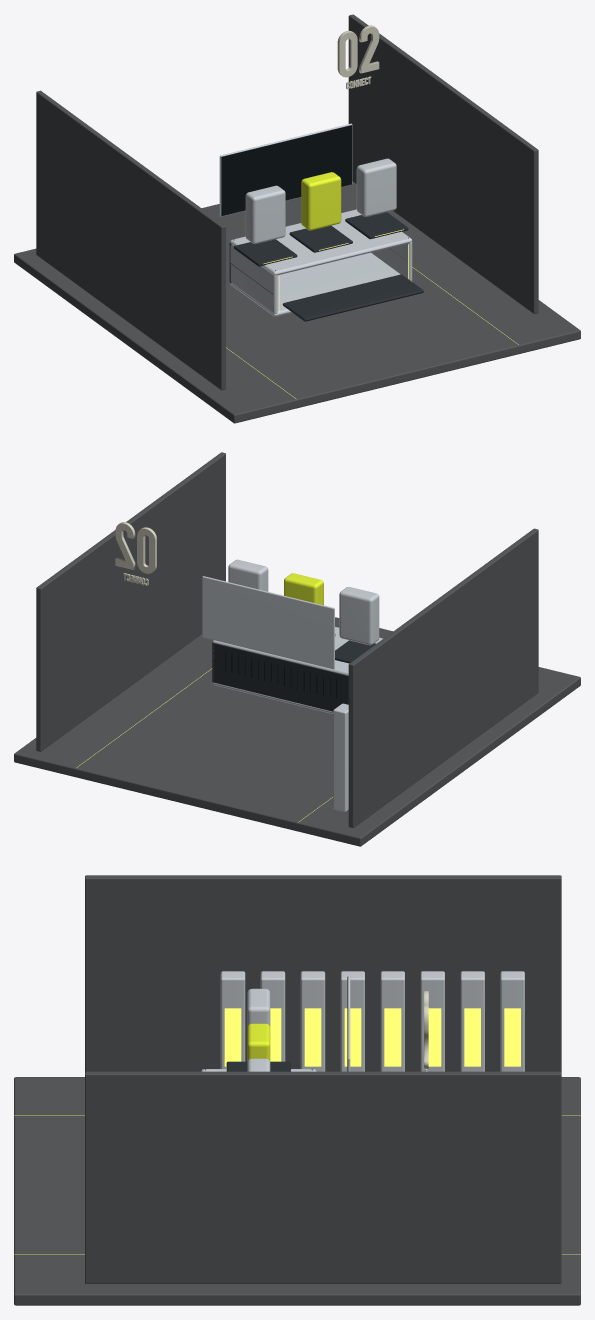
The model's file is 05-workbench.glb.
The picture shows the model from 3 angles, top to bottom: view 1: azimuth 30°, elevation 25°; view 2: azimuth 150°, elevation 25°; view 3: azimuth 270°, elevation 25°; orthographic projection. The views are drawn at different scales.
Visible parts, largest first — view 1: Architectural floor.005, Room wall, Room wall.001, AGENT SCREEN inner, AGENT bottom, AGENT top, WORKFLOW DRAWER, CARTRIDGE_1, CARTRIDGE_2, CARTRIDGE_0, AGENT side, Chapter 02 (+5 smaller); view 2: Architectural floor.005, Room wall, Room wall.001, AGENT SCREEN backing, AGENT back, CARTRIDGE_0, Knowledge shelf 7, Chapter 02, CARTRIDGE_2, CARTRIDGE_1, AGENT top, Dock 0; view 3: Room wall.001, Room wall, Architectural floor.005, Knowledge shelf 2, Knowledge shelf 6, Knowledge shelf 7, Knowledge shelf 4, Knowledge shelf 0, Knowledge shelf 3, Knowledge shelf 5, Library strip 2, Library strip 4 (+9 smaller).
Boxes of the visible parts, <box> form: Architectural floor.005: <box>14,181,580,423</box>; Room wall: <box>36,90,225,390</box>; Room wall.001: <box>348,14,538,313</box>; AGENT SCREEN inner: <box>221,125,351,216</box>; AGENT bottom: <box>230,252,412,316</box>; AGENT top: <box>230,209,412,275</box>; WORKFLOW DRAWER: <box>282,274,423,321</box>; CARTRIDGE_1: <box>301,172,341,230</box>; CARTRIDGE_2: <box>356,158,396,216</box>; CARTRIDGE_0: <box>245,185,285,244</box>; AGENT side: <box>230,244,277,313</box>; Chapter 02: <box>337,25,379,77</box>; Architectural floor.005: <box>14,617,580,846</box>; Room wall: <box>348,528,538,827</box>; Room wall.001: <box>36,452,225,751</box>; AGENT SCREEN backing: <box>202,576,334,669</box>; AGENT back: <box>212,642,348,711</box>; CARTRIDGE_0: <box>339,587,379,645</box>; Knowledge shelf 7: <box>333,703,348,811</box>; Chapter 02: <box>115,522,156,573</box>; CARTRIDGE_2: <box>228,559,268,591</box>; CARTRIDGE_1: <box>284,573,323,605</box>; AGENT top: <box>212,627,383,675</box>; Dock 0: <box>335,640,376,663</box>; Room wall.001: <box>85,1071,561,1283</box>; Room wall: <box>85,875,561,1071</box>; Architectural floor.005: <box>14,1077,580,1305</box>; Knowledge shelf 2: <box>300,971,325,1071</box>; Knowledge shelf 6: <box>460,971,484,1071</box>; Knowledge shelf 7: <box>500,971,524,1071</box>; Knowledge shelf 4: <box>380,971,404,1071</box>; Knowledge shelf 0: <box>220,971,245,1068</box>; Knowledge shelf 3: <box>340,971,364,1071</box>; Knowledge shelf 5: <box>420,971,444,1071</box>; Library strip 2: <box>304,1008,321,1066</box>; Library strip 4: <box>384,1008,401,1066</box>.
Bounding box in the file's own units: 40 × 22.92 × 44.
